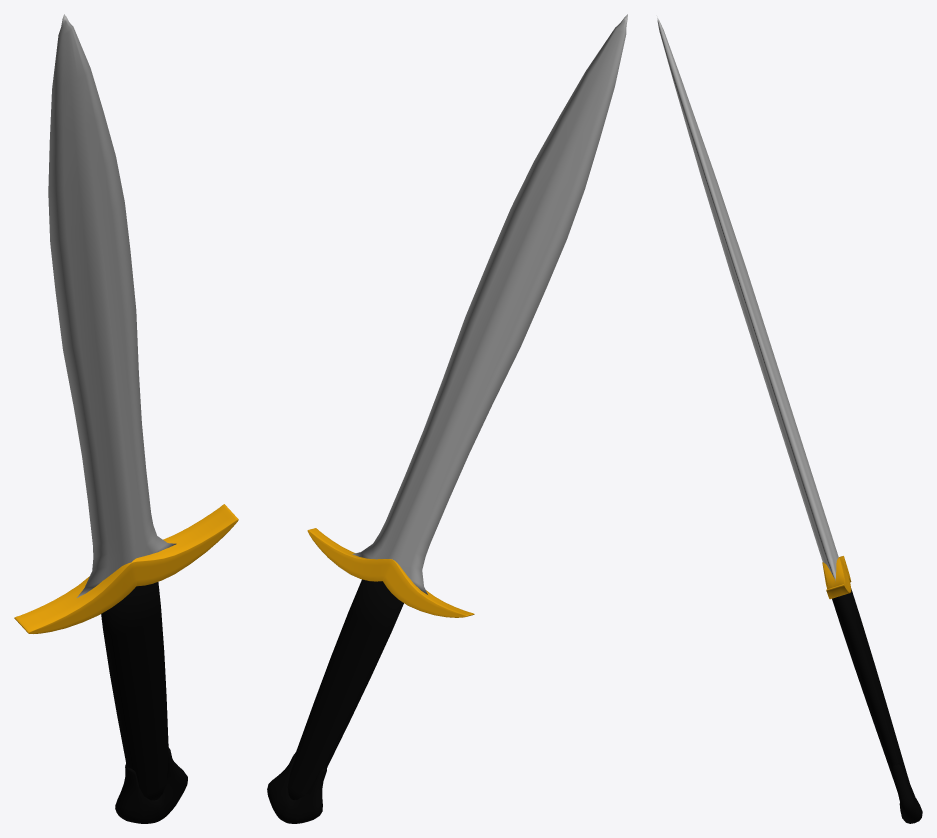
The model's file is sord.fbx.
3 views of the same model, side by side, from view 1: azimuth 30°, elevation 25°; view 2: azimuth 150°, elevation 25°; view 3: azimuth 270°, elevation 25° (orthographic). The views are drawn at different scales.
Visible parts, largest first — view 1: Lame; view 2: Lame; view 3: Lame.
Part boxes in pixels (x1,y1,x2,y2): Lame: (14,14,238,823); Lame: (267,14,627,823); Lame: (657,18,922,823).
Bounding box in the file's own units: 277 × 885 × 299.
